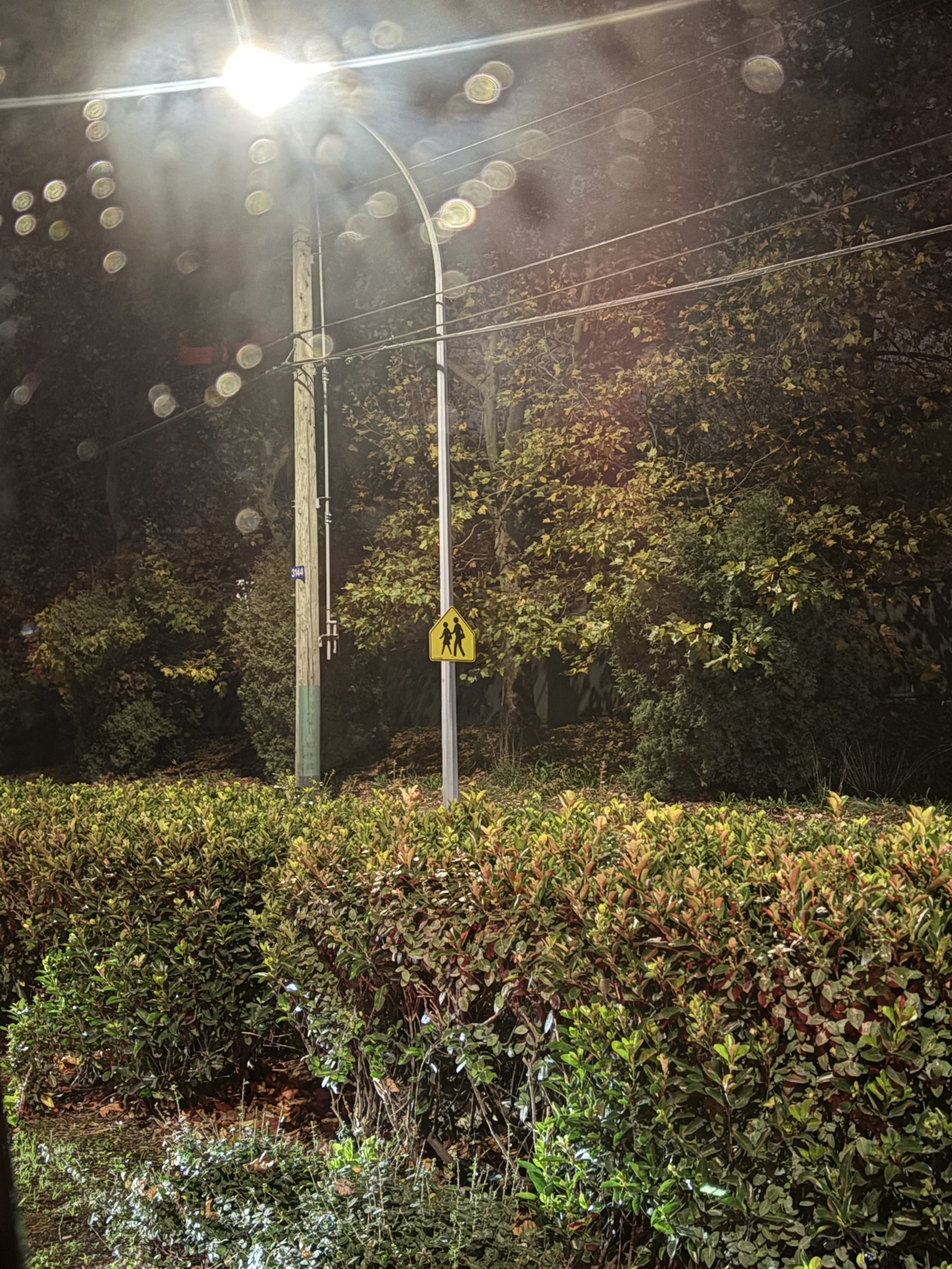school_zone: (403, 582, 493, 676)
